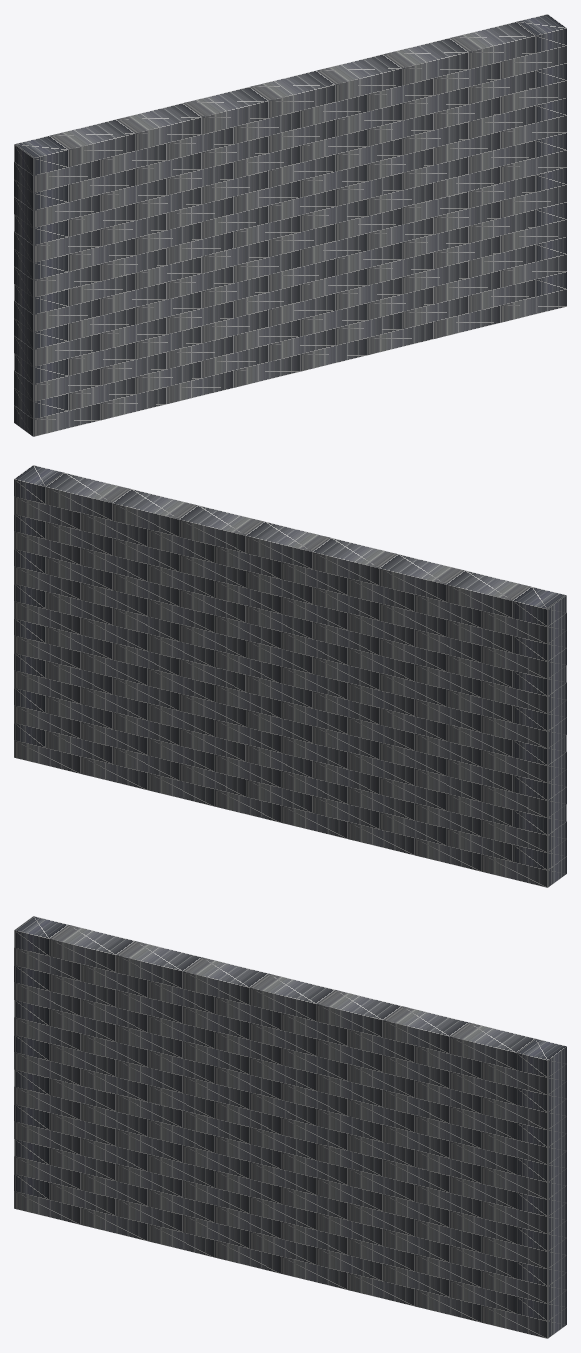
File: Brick_Wall.fbx
The picture shows the model from 3 angles, top to bottom: view 1: azimuth 30°, elevation 25°; view 2: azimuth 150°, elevation 25°; view 3: azimuth 330°, elevation 25°; orthographic projection.
Visible parts, largest first — view 1: Birck_3, Birck_7, Birck_6, Birck_4, Birck_9, Birck_5, Birck_8, Birck, Birck_51, Birck_34, Birck_119, Birck_136 (+124 smaller); view 2: Birck_3, Birck_7, Birck_6, Birck_4, Birck_9, Birck_5, Birck_8, Birck, Birck_51, Birck_119, Birck_136, Birck_34 (+124 smaller); view 3: Birck_7, Birck_4, Birck_8, Birck_9, Birck_5, Birck_3, Birck_6, Birck_44, Birck_112, Birck_27, Birck_95, Birck_129 (+124 smaller).
Part boxes in pixels (x1,y1,x2,y2): Birck_3: [449, 22, 535, 69]; Birck_7: [183, 87, 268, 134]; Birck_6: [250, 70, 335, 118]; Birck_4: [383, 38, 468, 85]; Birck_9: [49, 119, 134, 167]; Birck_5: [316, 54, 401, 101]; Birck_8: [116, 103, 201, 150]; Birck: [14, 136, 68, 175]; Birck_51: [14, 229, 99, 262]; Birck_34: [14, 194, 99, 227]; Birck_119: [14, 368, 99, 401]; Birck_136: [14, 403, 99, 436]; Birck_3: [45, 473, 131, 520]; Birck_7: [312, 538, 397, 585]; Birck_6: [245, 521, 330, 569]; Birck_4: [112, 489, 197, 536]; Birck_9: [446, 570, 531, 618]; Birck_5: [179, 505, 264, 552]; Birck_8: [379, 554, 464, 601]; Birck: [512, 587, 566, 626]; Birck_51: [481, 680, 566, 713]; Birck_119: [481, 819, 566, 852]; Birck_136: [481, 854, 566, 887]; Birck_34: [481, 645, 566, 678]; Birck_7: [182, 957, 267, 1004]; Birck_4: [382, 1006, 467, 1053]; Birck_8: [115, 941, 201, 988]; Birck_9: [49, 924, 134, 972]; Birck_5: [316, 989, 401, 1037]; Birck_3: [449, 1022, 534, 1069]; Birck_6: [249, 973, 334, 1021]; Birck_44: [481, 1131, 566, 1164]; Birck_112: [481, 1270, 566, 1303]; Birck_27: [481, 1096, 566, 1129]; Birck_95: [481, 1235, 566, 1268]; Birck_129: [481, 1305, 566, 1338].
Bounding box in the file's own units: 1600 × 798 × 100.
